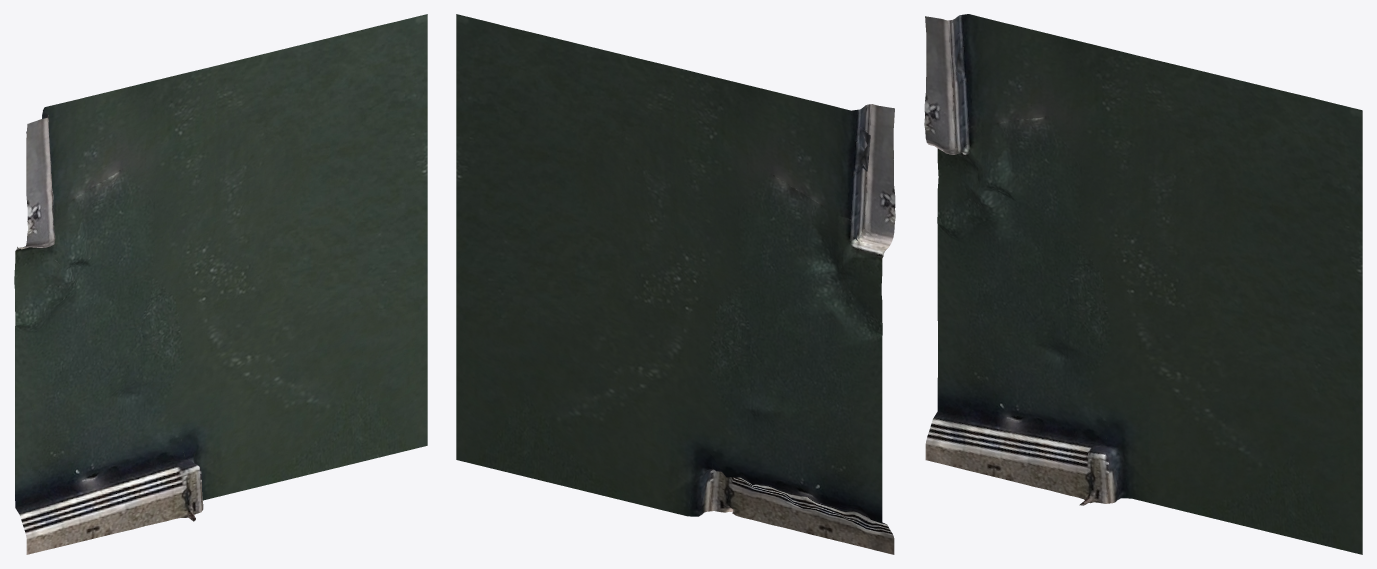
File: Tile_+029_+018_L21_0013000.fbx
3 views of the same model, side by side, from view 1: azimuth 30°, elevation 25°; view 2: azimuth 150°, elevation 25°; view 3: azimuth 330°, elevation 25° (orthographic). The views are drawn at different scales.
Visible parts, largest first — view 1: DefaultName; view 2: DefaultName; view 3: DefaultName.
Part boxes in pixels (x1=…): DefaultName: x1=14, y1=14, x2=427, y2=554; DefaultName: x1=456, y1=14, x2=895, y2=554; DefaultName: x1=924, y1=14, x2=1362, y2=554.
Bounding box in the file's own units: 31.38 × 31.38 × 3.04.
1 material, 1 textured.
